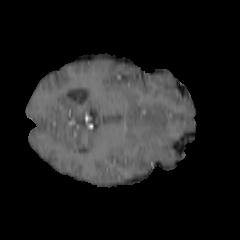glioma: (129, 111, 186, 153)
